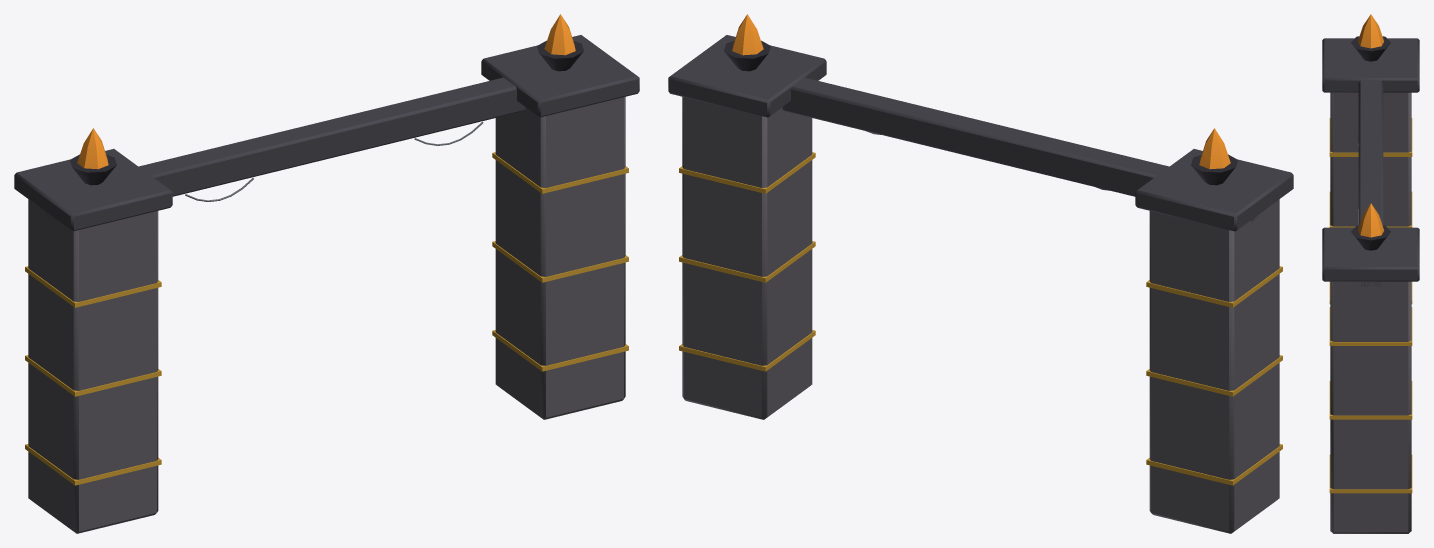
Rendered from gate.glb.
3 views of the same model, side by side, from view 1: azimuth 30°, elevation 25°; view 2: azimuth 150°, elevation 25°; view 3: azimuth 270°, elevation 25° (orthographic). The views are drawn at different scales.
Parts seen in each view (by area): view 1: gate; view 2: gate; view 3: gate.
Part boxes in pixels (x1,y1,x2,y2): gate: (14,14,639,533); gate: (668,14,1293,533); gate: (1322,14,1419,533).
Size of the model in its own units: 13.4 by 8.55 by 2.4.
